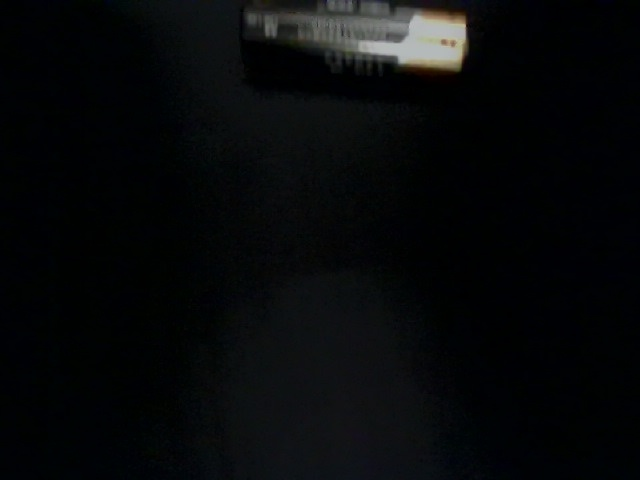QTLJ: (1, 160, 192, 315)
